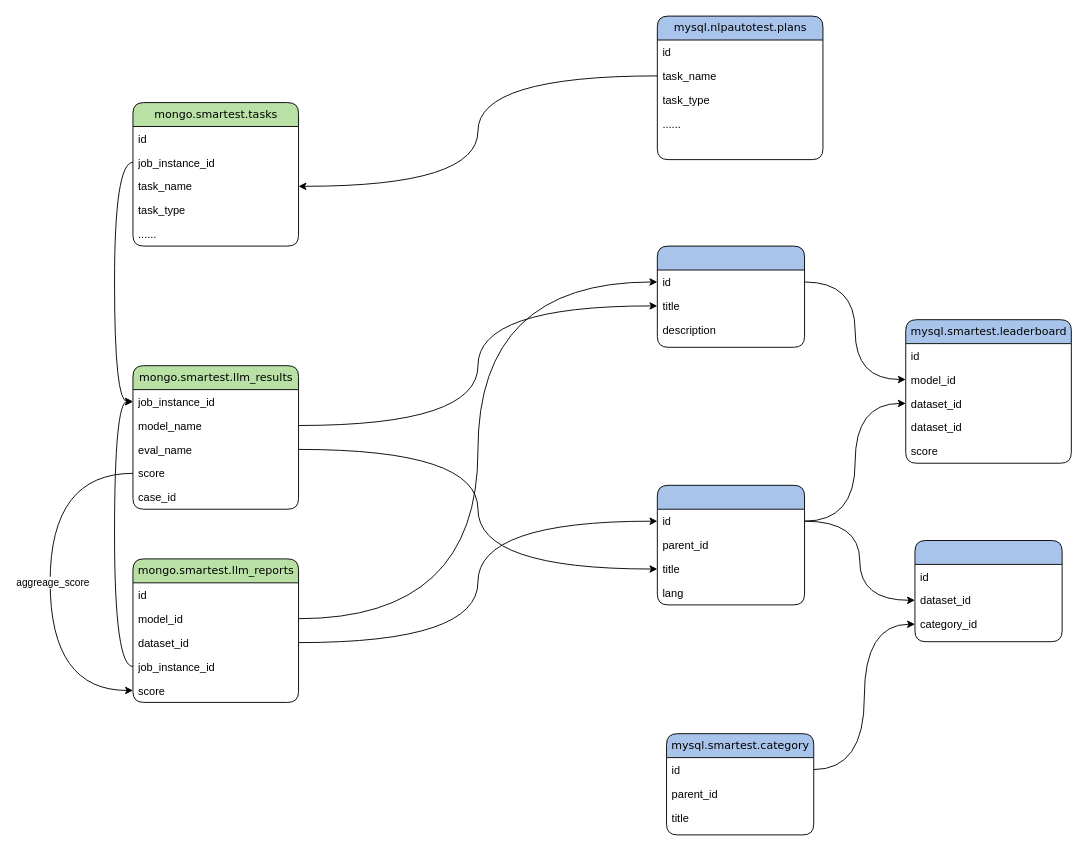
Image size: 1087x851. Some labels were removed from this diagram. The box of each missing label's shape, as (x1, y1, x2, y2) in pixels:
mysql.smartest.datasets: (656, 484, 805, 605)
mysql.smartest.label: (914, 540, 1062, 642)
mysql.smartest.models: (656, 245, 805, 347)
